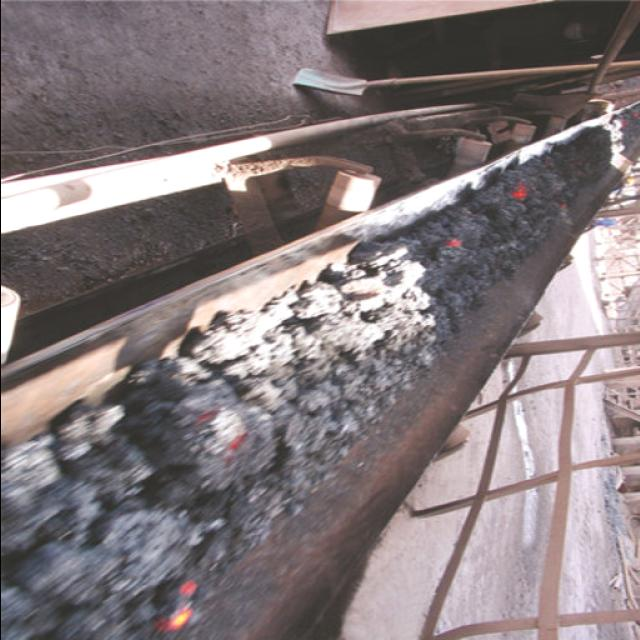conveyor: (2, 96, 640, 640)
